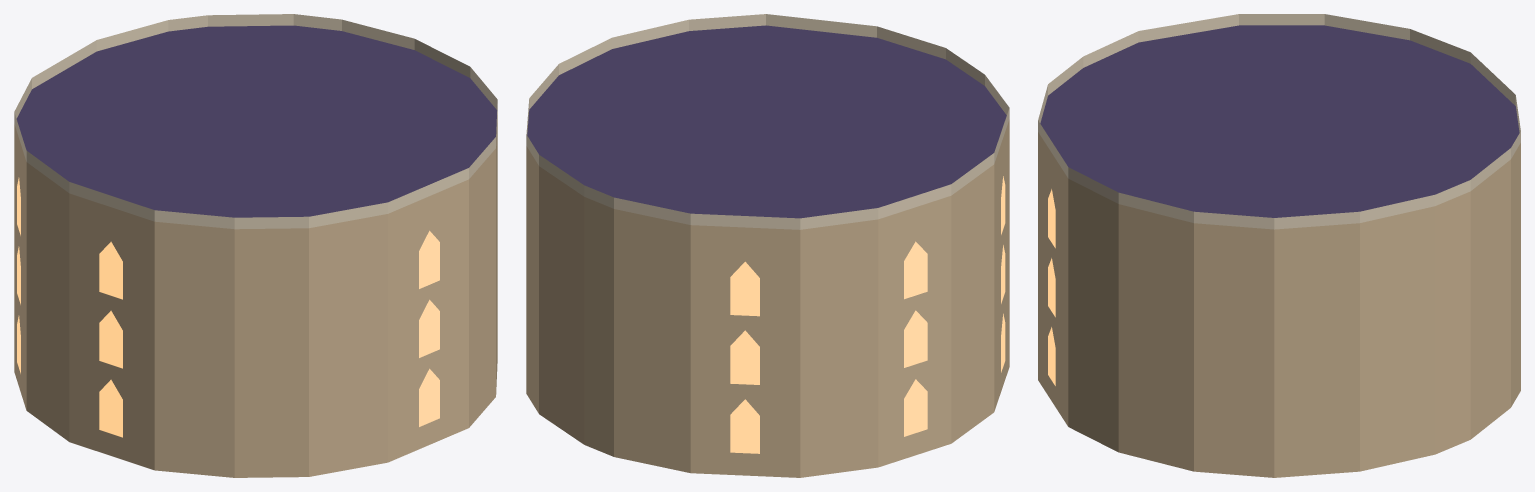
The picture shows the model from 3 angles, left to right: view 1: azimuth 30°, elevation 25°; view 2: azimuth 150°, elevation 25°; view 3: azimuth 270°, elevation 25°; orthographic projection.
Visible parts, largest first — view 1: campus/b-096-0; view 2: campus/b-096-0; view 3: campus/b-096-0.
Boxes of the visible parts, x1=… form: campus/b-096-0: x1=14, y1=14, x2=497, y2=477; campus/b-096-0: x1=526, y1=14, x2=1009, y2=477; campus/b-096-0: x1=1038, y1=14, x2=1520, y2=477.
Bounding box in the file's own units: 20.96 × 12.45 × 20.96.
